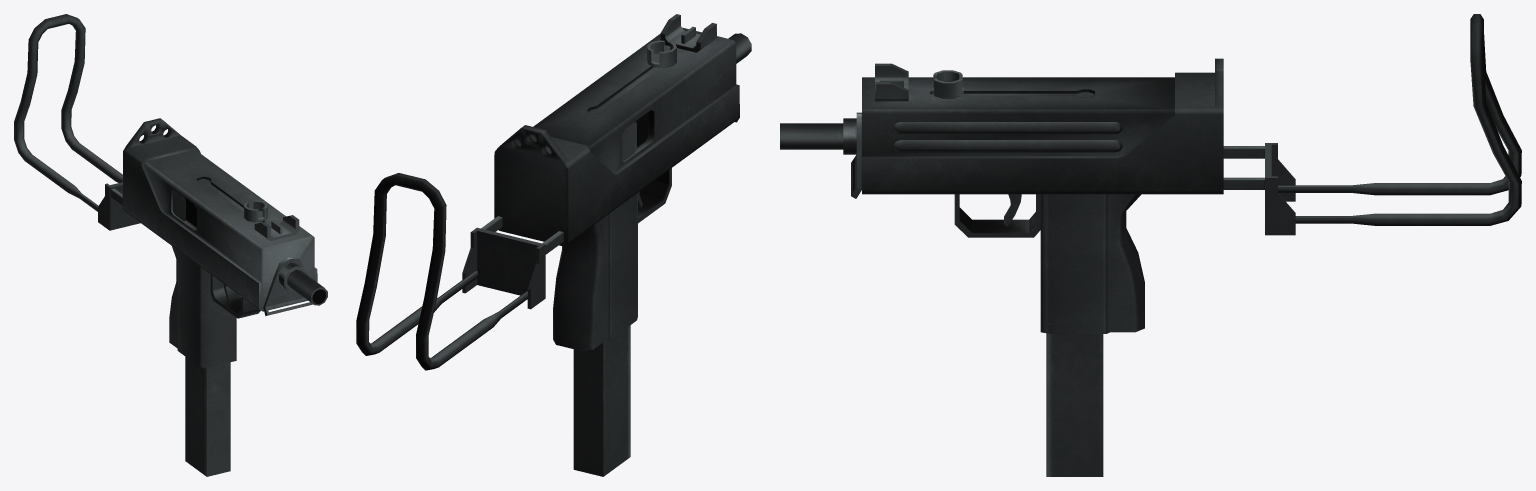
File: mac_10.FBX
3 renders of one model, left to right at view 1: azimuth 30°, elevation 25°; view 2: azimuth 150°, elevation 25°; view 3: azimuth 270°, elevation 25°, orthographic. The views are drawn at different scales.
Parts seen in each view (by area): view 1: mac10; view 2: mac10; view 3: mac10.
Part boxes in pixels (x1,y1,x2,y2): mac10: [14, 14, 327, 476]; mac10: [356, 14, 751, 476]; mac10: [780, 14, 1521, 476].
Size of the model in its own units: 5.36 by 29.42 by 44.08.
